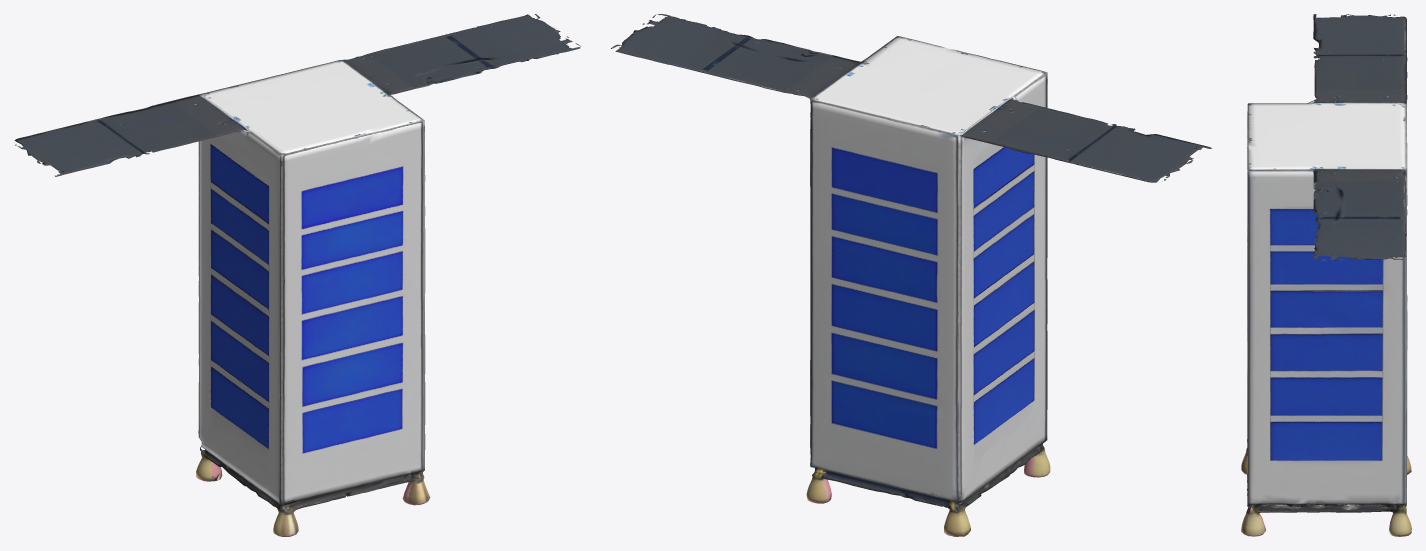
3 renders of one model, left to right at view 1: azimuth 30°, elevation 25°; view 2: azimuth 150°, elevation 25°; view 3: azimuth 270°, elevation 25°, orthographic. The views are drawn at different scales.
Size of the model in its own units: 2 by 1.38 by 0.5858.
1 material, 1 textured.
